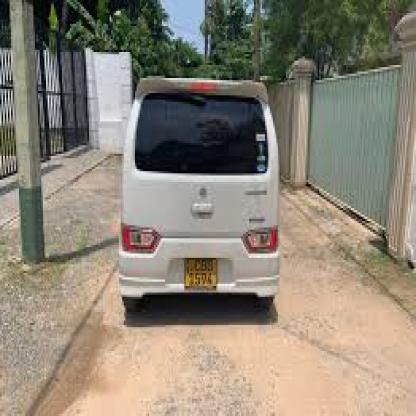car: (113, 67, 284, 327)
